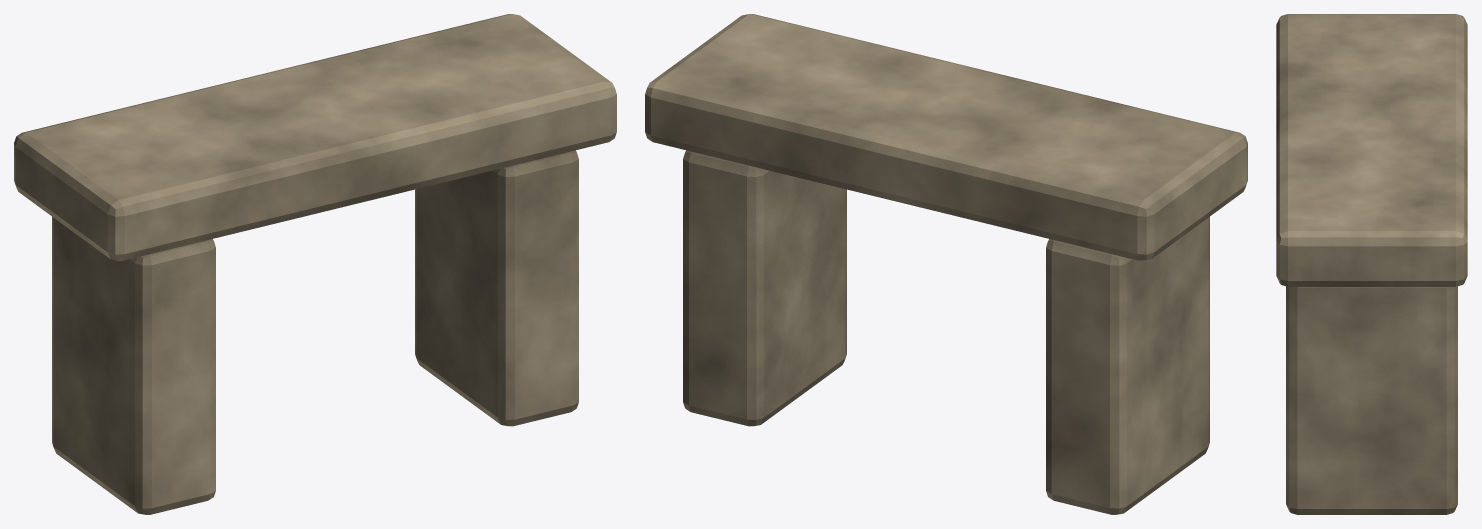
File: arena_sira_bench.glb
3 views of the same model, side by side, from view 1: azimuth 30°, elevation 25°; view 2: azimuth 150°, elevation 25°; view 3: azimuth 270°, elevation 25° (orthographic). The views are drawn at different scales.
Visible parts, largest first — view 1: arena_sira_bench; view 2: arena_sira_bench; view 3: arena_sira_bench.
Boxes of the visible parts, bbox=[...] form: arena_sira_bench: bbox=[14, 14, 616, 514]; arena_sira_bench: bbox=[645, 14, 1247, 514]; arena_sira_bench: bbox=[1276, 14, 1467, 514].
Bounding box in the file's own units: 1.4 × 0.86 × 0.5.
Materials: 1 (1 with a texture image).
